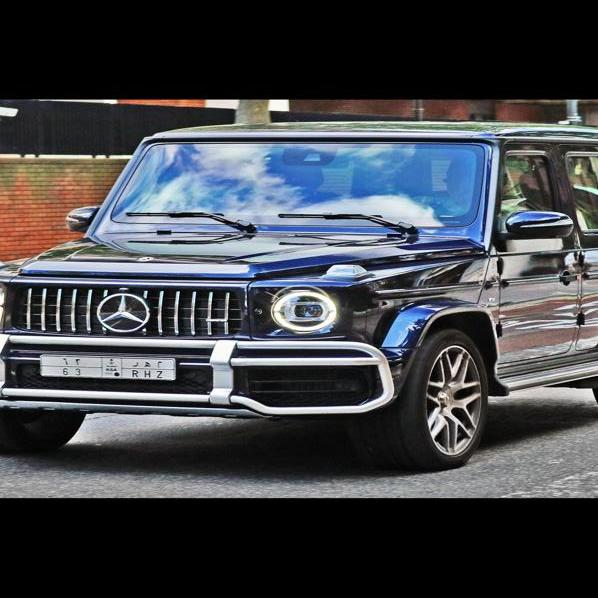numberplate: (38, 353, 177, 381)
